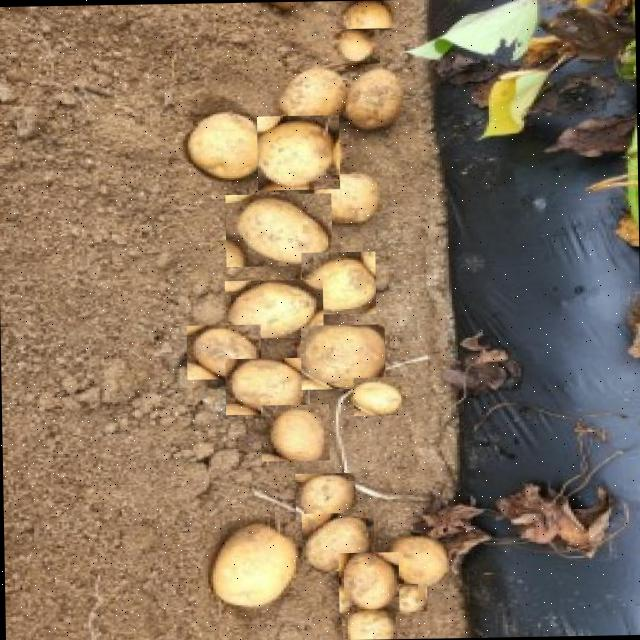Potato: (215, 520, 306, 610), (225, 192, 332, 266), (256, 114, 340, 189), (224, 278, 324, 338), (300, 323, 385, 388), (188, 110, 266, 178), (224, 356, 310, 414), (301, 250, 376, 313), (302, 511, 374, 570), (276, 64, 346, 124), (186, 323, 261, 378), (260, 403, 330, 460), (316, 166, 378, 229), (345, 66, 407, 128), (338, 550, 399, 612), (388, 534, 452, 590), (294, 472, 356, 520), (341, 606, 396, 640), (353, 376, 402, 414), (330, 28, 380, 63), (335, 0, 398, 27), (385, 582, 427, 612)
